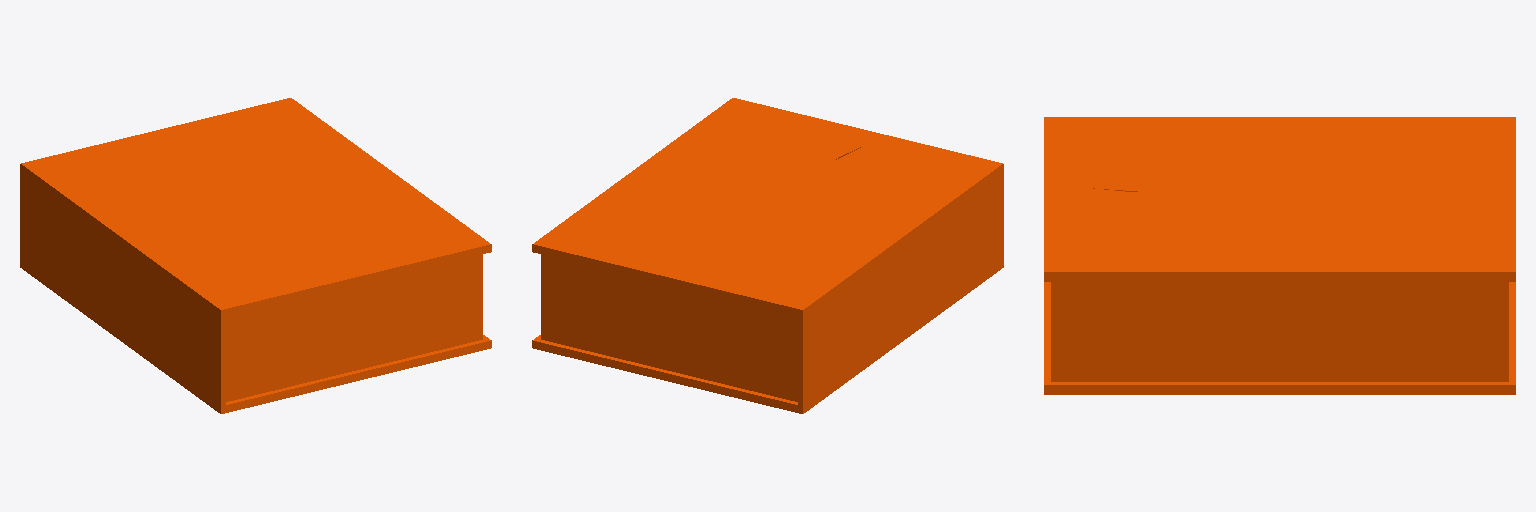
robot.urdf — Book_8daa30dd38bd5f5cd5bd8e7415322d0f:
<?xml version="1.0" ?>
<robot name="Book_8daa30dd38bd5f5cd5bd8e7415322d0f">
   <material name="obj_color">
      <color rgba="1.0 0.423529411765 0.0392156862745 1.0"/>
   </material>
   <link name="top">
      <inertial>
         <origin rpy="0.001363923412763889 0.00213931312364271 0.003176540128208836" xyz="-0.0003275648317131774 -0.007202059791259361 -0.006045227103371258"/>
         <mass value="0.9155969530656577"/>
         <inertia ixx="0.002139313123583176" ixy="1.236055976611518e-08" ixz="1.194460724920921e-08" iyy="0.001363923421674663" iyz="-1.25676613990342e-07" izz="0.003176540119357596"/>
      </inertial>
      <visual>
         <origin rpy="0 0 0" xyz="0 0 0"/>
         <geometry>
            <mesh filename="top_watertight_tiny.stl" scale="1 1 1"/>
         </geometry>
         <material name="obj_color"/>
      </visual>
      <collision>
         <origin rpy="0 0 0" xyz="0 0 0"/>
         <geometry>
            <mesh filename="top_watertight_tiny.obj" scale="1 1 1"/>
         </geometry>
      </collision>
   </link>
   <link name="bottom">
      <inertial>
         <origin rpy="1.633333333331402e-08 1.633333333331402e-08 1.633333333331402e-08" xyz="0.08660200000000004 0.08660200000000004 0.08660200000000004"/>
         <mass value="0.0009800000000000026"/>
         <inertia ixx="1.633333333331402e-08" ixy="-0" ixz="-0" iyy="1.633333333331402e-08" iyz="-0" izz="1.633333333331402e-08"/>
      </inertial>
      <visual>
         <origin rpy="0 0 0" xyz="0 0 0"/>
         <geometry>
            <mesh filename="bottom_watertight_tiny.stl" scale="1 1 1"/>
         </geometry>
         <material name="obj_color"/>
      </visual>
   </link>
   <link name="world"/>
   <joint name="world_to_base" type="fixed">
      <origin xyz="0 0 0"/>
      <axis xyz="0 0 0"/>
      <parent link="world"/>
      <child link="bottom"/>
   </joint>
   <joint name="rotation" type="revolute">
      <origin xyz="0 0 0"/>
      <axis xyz="0 0 -1"/>
      <parent link="bottom"/>
      <child link="top"/>
      <dynamics damping="1.0" friction="1.0"/>
      <limit effort="0.1" velocity="0.1" lower="0" upper="0.001"/>
   </joint>
</robot>

--- Render facts (derived) ---
3 views of the same robot in one strip: view 1: azimuth 30°, elevation 25°; view 2: azimuth 150°, elevation 25°; view 3: azimuth 270°, elevation 25° (orthographic).
Model Book_8daa30dd38bd5f5cd5bd8e7415322d0f with 3 links and 2 joints (1 revolute, 1 fixed), rooted at world, posed every joint at zero.
Visible links, largest first — view 1: top; view 2: top; view 3: top.
Boxes of the visible links, x1,y1,x2,y2 form: top: (20,98,491,413); top: (532,98,1003,413); top: (1044,117,1515,394).
Bounding box of the posed robot: 0.1255 × 0.161 × 0.0463 m (x, y, z).
1 mesh visuals loaded from 2 distinct referenced files (1 binary STL); not drawn: 1 (reference not matched to a file when rendering).